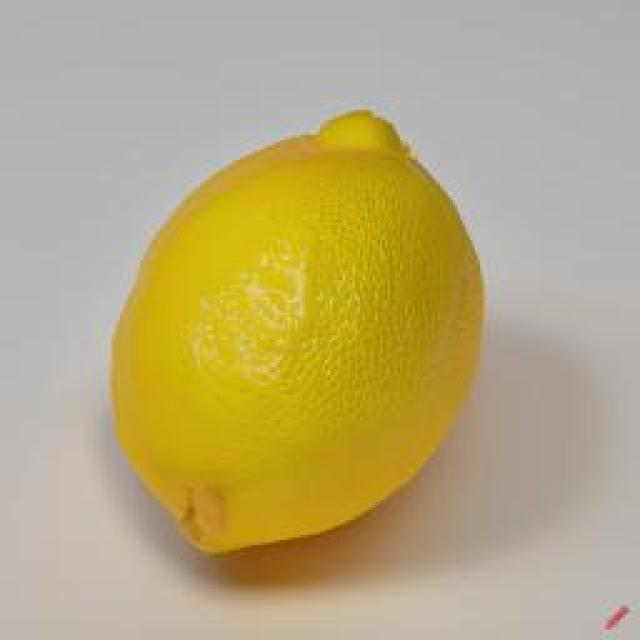Lemon: (107, 110, 487, 557)
